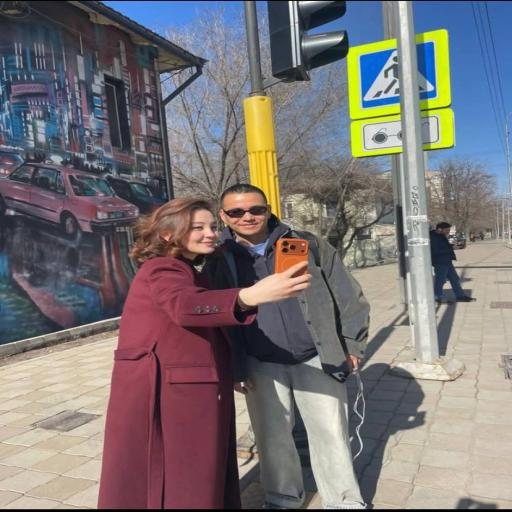crosswalk: (98, 198, 310, 510), (204, 184, 369, 508)
curb: (274, 238, 308, 277)
pole: (267, 0, 349, 82)
